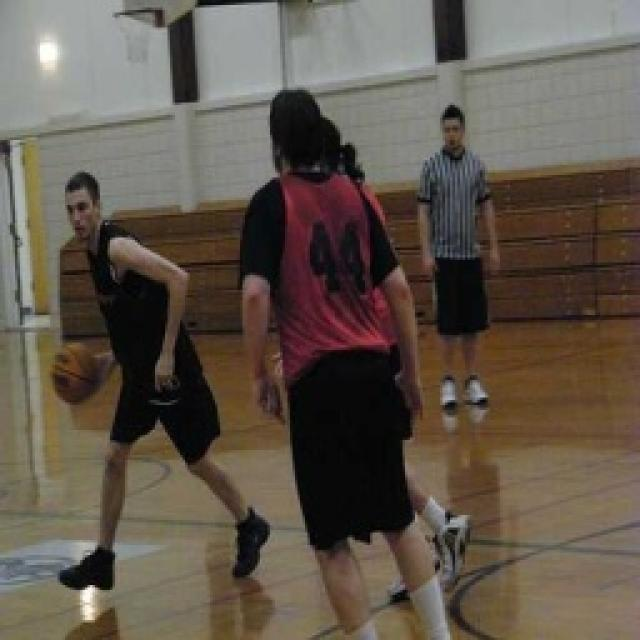rim: (48, 332, 100, 410)
